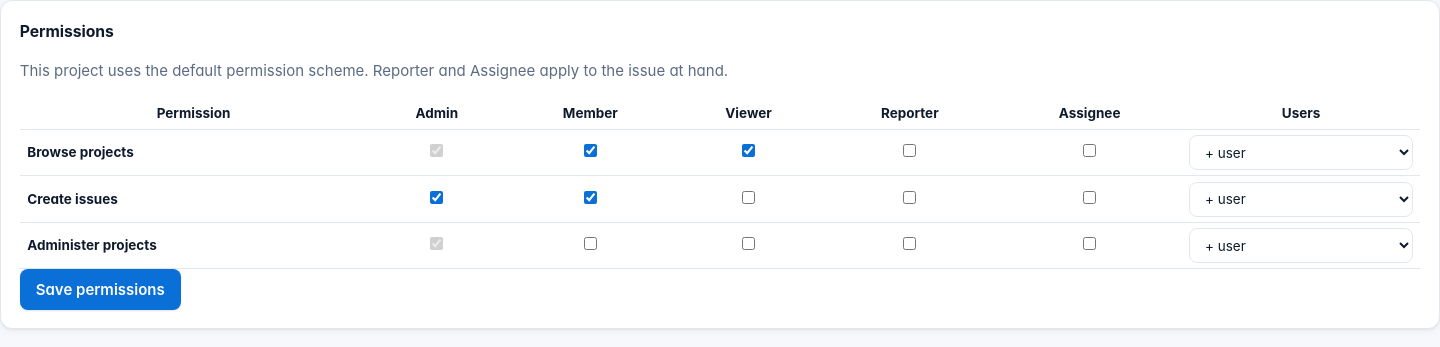
Test: PermissionScheme › shows API errors and explains when only admins may edit
This screenshot has width=1440, height=347.
Click the button "Save permissions".
click(100, 289)  # box [20,269,181,310]
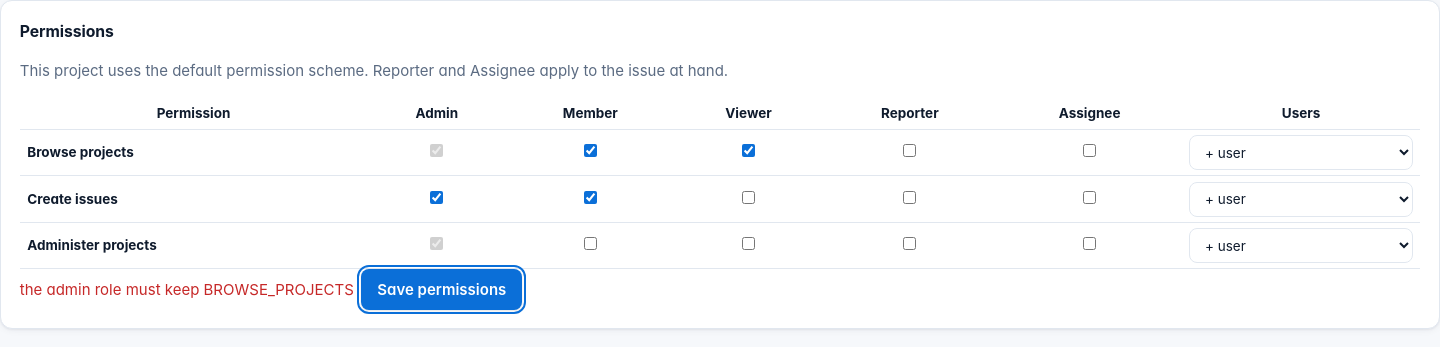
Now the message "the admin role must keep BROWSE_PROJECTS" is shown, box [20,278,354,301]
